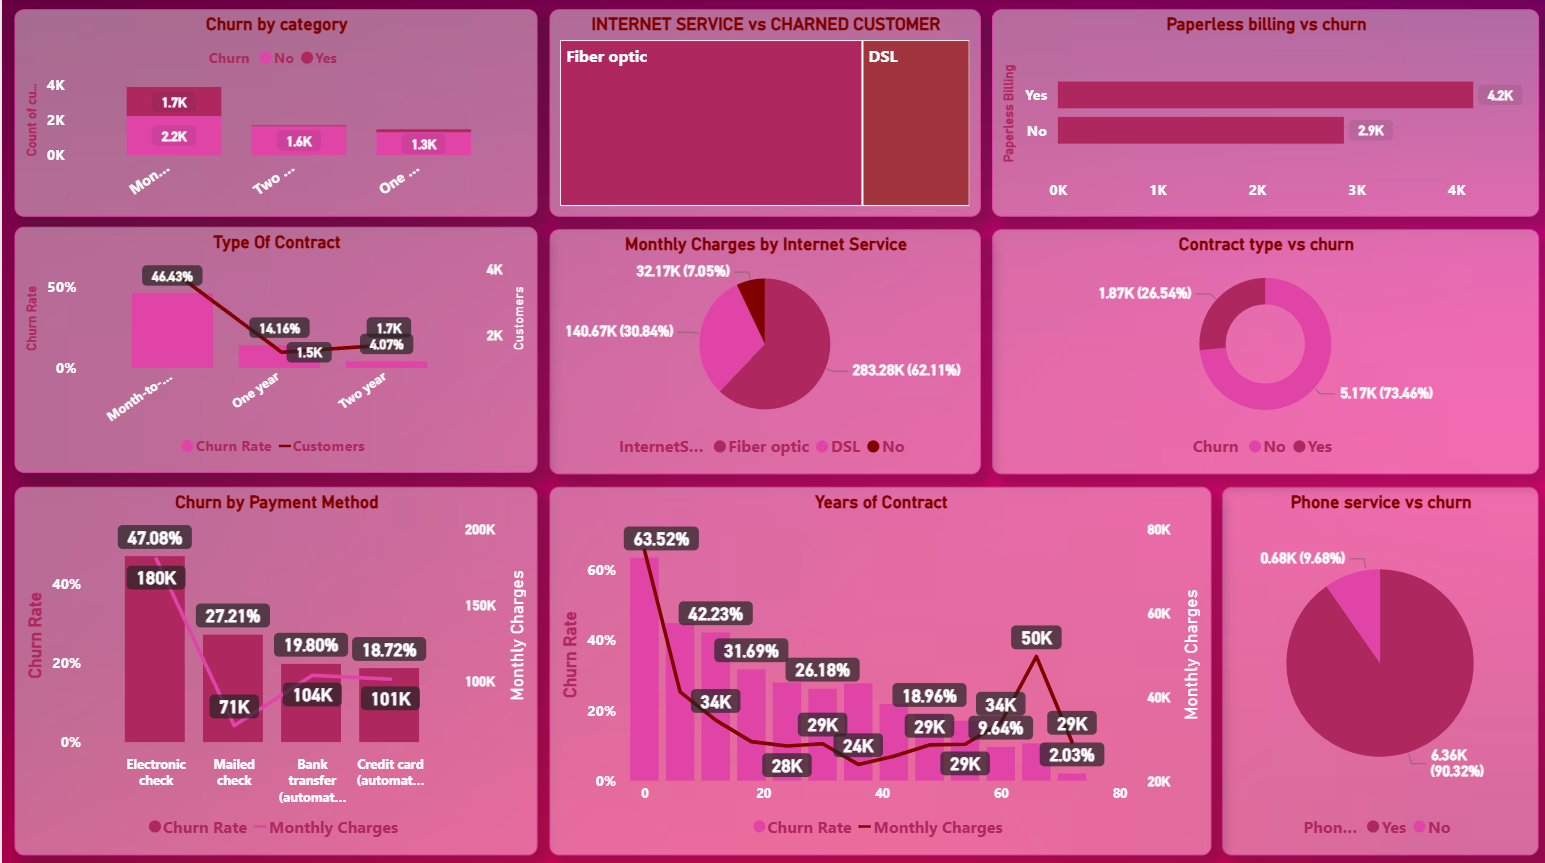

Layout of this report page (visuals, bound fields, positions):
{"tool":"powerbi","page":{"name":"Dashboard 3","canvas":[1280,720],"ordinal":2},"visuals":[{"type":"columnChart","title":"Churn by category","fields":{"Category":["CHURN_DATA.Contract"],"Series":["CHURN_DATA.Churn"],"Y":["CountNonNull(CHURN_DATA.customerID)"]},"box":[10.7,9.5,433.5,172.2],"z":0},{"type":"pieChart","title":"Phone service vs churn","fields":{"Category":["CHURN_DATA.PhoneService"],"Y":["CountNonNull(CHURN_DATA.Churn)"]},"box":[1011.8,405,262.5,305.2],"z":1000},{"type":"treemap","title":"INTERNET SERVICE vs CHARNED CUSTOMER ","fields":{"Values":["CustomerFull.Churned Customers"],"Group":["INTERNET_DATA.InternetService"]},"box":[453.7,9.5,357.5,172.2],"z":2000},{"type":"clusteredBarChart","title":"Paperless billing vs churn","fields":{"Category":["CHURN_DATA.PaperlessBilling"],"Y":["CountNonNull(CHURN_DATA.Churn)"]},"box":[820.6,9.5,453.7,172.2],"z":3000},{"type":"donutChart","title":"Contract type vs churn","fields":{"Category":["CHURN_DATA.Churn"],"Y":["CountNonNull(CHURN_DATA.Contract)"]},"box":[820.6,191.2,453.7,203.1],"z":4000},{"type":"pieChart","title":"Monthly Charges by Internet Service","fields":{"Y":["Sum(CHURN_DATA.MonthlyCharges)"],"Category":["INTERNET_DATA.InternetService"]},"box":[453.7,191.2,357.5,203.1],"z":5000},{"type":"lineStackedColumnComboChart","title":"Type Of Contract","fields":{"Category":["CHURN_DATA.Contract"],"Y":["CHURN_DATA.Churn Rate"],"Y2":["CountNonNull(CHURN_DATA.customerID)"]},"box":[10.7,190,433.5,204.3],"z":6000},{"type":"lineStackedColumnComboChart","title":"Churn by Payment Method","fields":{"Category":["CHURN_DATA.PaymentMethod"],"Y":["CHURN_DATA.Churn Rate"],"Y2":["Sum(CHURN_DATA.MonthlyCharges)"]},"box":[10.7,405,433.5,305.2],"z":7000},{"type":"lineStackedColumnComboChart","title":"Years of Contract","fields":{"Category":["CHURN_DATA.tenure (bins)"],"Y":["CHURN_DATA.Churn Rate"],"Y2":["Sum(CHURN_DATA.MonthlyCharges)"]},"box":[453.7,405,548.7,305.2],"z":8000}]}

Visuals, with their boxes in screenshot pixels (x1, y1, x2, y2), scaled from the page's 1280x720 canvas onto the 1545x863 screenshot:
"Churn by category" columnChart: (x1=13, y1=11, x2=536, y2=218)
"Phone service vs churn" pieChart: (x1=1221, y1=485, x2=1538, y2=851)
"INTERNET SERVICE vs CHARNED CUSTOMER " treemap: (x1=548, y1=11, x2=979, y2=218)
"Paperless billing vs churn" clusteredBarChart: (x1=990, y1=11, x2=1538, y2=218)
"Contract type vs churn" donutChart: (x1=990, y1=229, x2=1538, y2=473)
"Monthly Charges by Internet Service" pieChart: (x1=548, y1=229, x2=979, y2=473)
"Type Of Contract" lineStackedColumnComboChart: (x1=13, y1=228, x2=536, y2=473)
"Churn by Payment Method" lineStackedColumnComboChart: (x1=13, y1=485, x2=536, y2=851)
"Years of Contract" lineStackedColumnComboChart: (x1=548, y1=485, x2=1210, y2=851)
